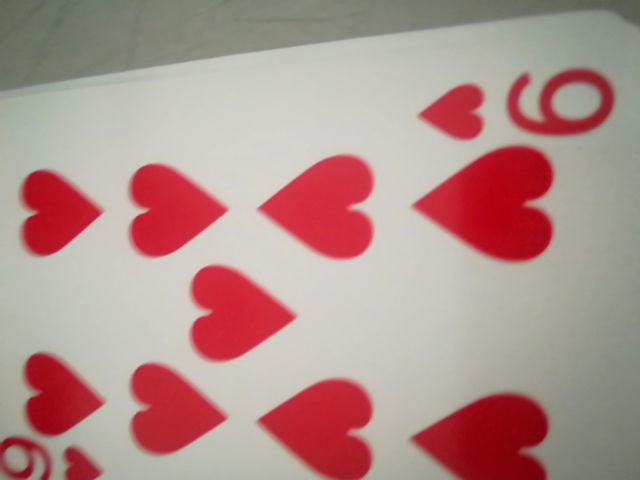hx 9: (417, 59, 619, 149)
